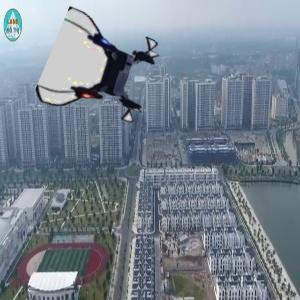drone: (49, 16, 159, 126)
